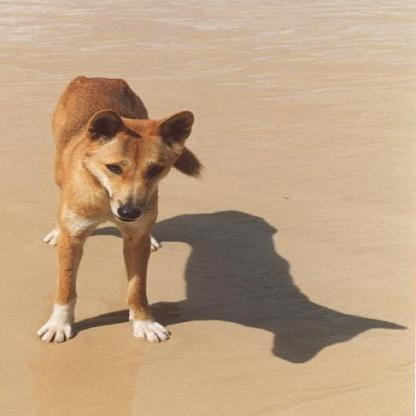dingo: (31, 71, 206, 347)
